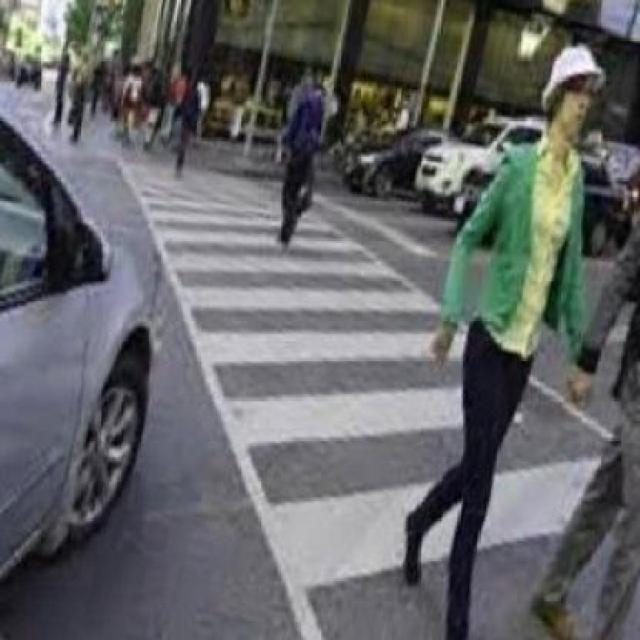obstacle: (403, 41, 592, 638), (271, 57, 331, 248)
